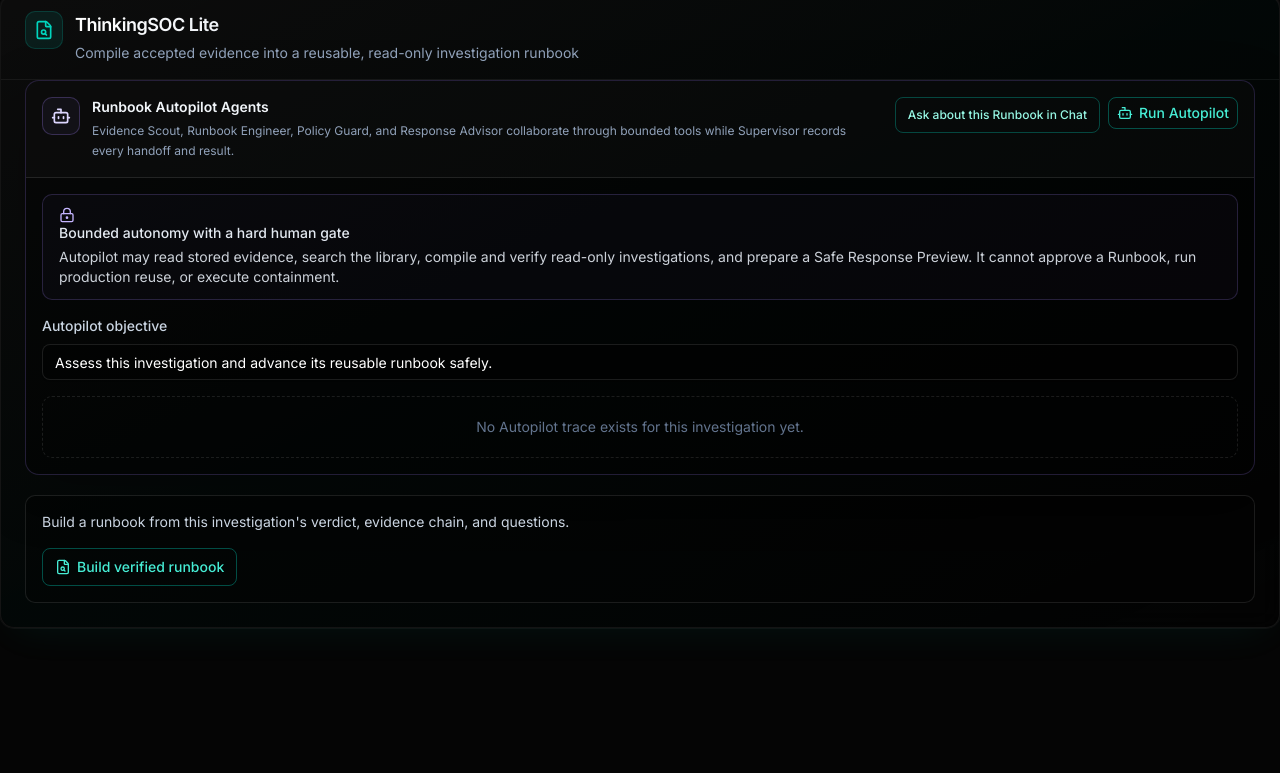
Test: VerifiedRunbookPanel › builds and renders honest source verification evidence
Click the button "Build verified runbook".
click(140, 567)  # box [42,548,237,586]
(page scrolled)
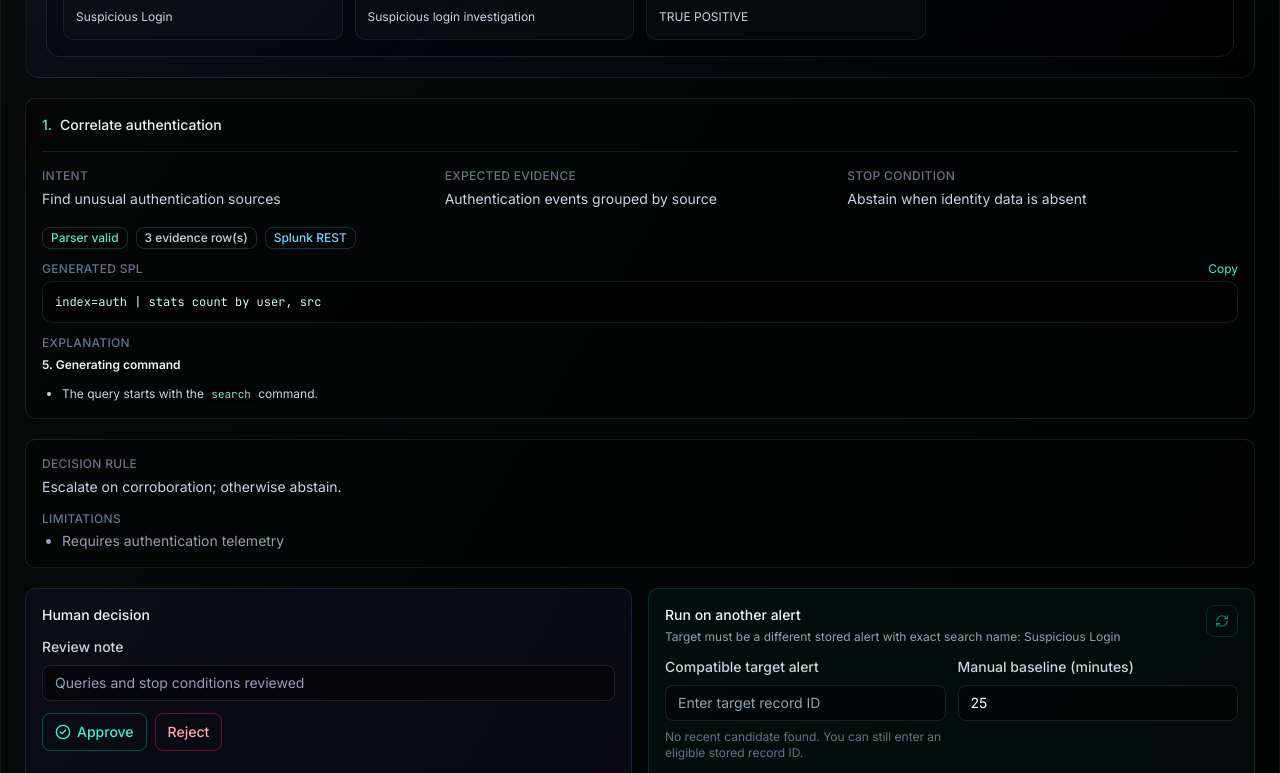
Result: the text "3 evidence row(s)" is shown 2 times
Result: the text "Splunk REST" is shown at [265,226,356,248]
Result: the text "index=auth | stats count by user, src" is shown at [55,294,321,310]
